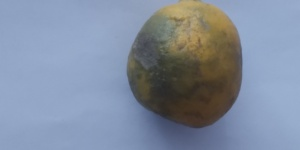BAD: (124, 1, 246, 128)
